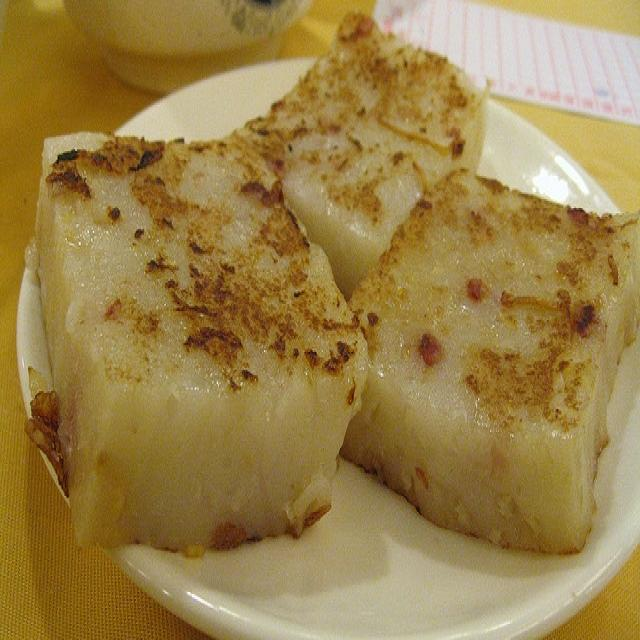蛋糕甜品: (12, 12, 636, 624)
